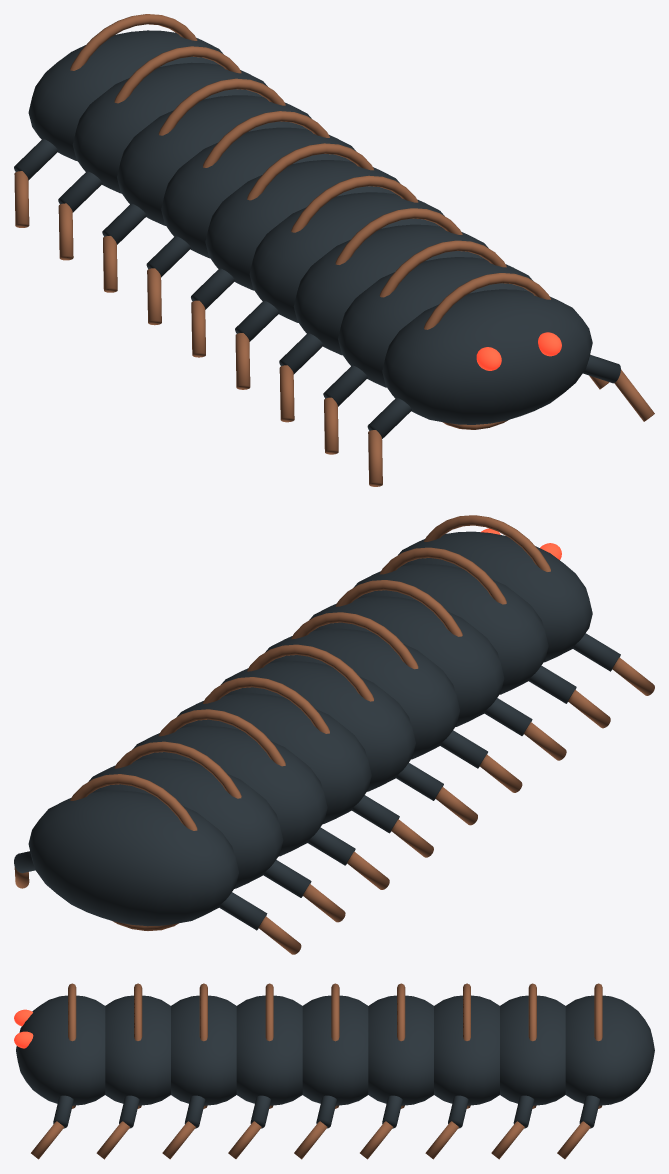
Rendered from worm.glb.
The picture shows the model from 3 angles, top to bottom: view 1: azimuth 30°, elevation 25°; view 2: azimuth 150°, elevation 25°; view 3: azimuth 270°, elevation 25°; orthographic projection. The views are drawn at different scales.
Parts seen in each view (by area): view 1: segment0_shell.001, segment8_shell.001, segment1_shell.001, segment6_shell.001, segment7_shell.001, segment2_shell.001, segment3_shell.001, segment5_shell.001, segment4_shell.001, segment0_copper.001, segment1_copper.001, segment4_copper.001 (+7 smaller); view 2: segment8_shell.001, segment4_shell.001, segment0_shell.001, segment2_shell.001, segment3_shell.001, segment5_shell.001, segment6_shell.001, segment1_shell.001, segment7_shell.001, segment8_copper.001, segment7_copper.001, segment1_copper.001 (+6 smaller); view 3: segment8_shell.001, segment0_shell.001, segment4_shell.001, segment3_shell.001, segment1_shell.001, segment7_shell.001, segment6_shell.001, segment2_shell.001, segment5_shell.001, segment3_copper.001, segment2_copper.001, segment7_copper.001 (+7 smaller).
Part boxes in pixels (x1,y1,x2,y2): segment0_shell.001: [367, 289, 620, 438]; segment8_shell.001: [14, 30, 223, 180]; segment1_shell.001: [323, 257, 532, 406]; segment6_shell.001: [102, 95, 311, 244]; segment7_shell.001: [58, 62, 267, 212]; segment2_shell.001: [279, 224, 488, 374]; segment3_shell.001: [235, 192, 444, 341]; segment5_shell.001: [146, 127, 356, 277]; segment4_shell.001: [191, 160, 400, 309]; segment0_copper.001: [368, 273, 654, 486]; segment1_copper.001: [324, 240, 609, 454]; segment4_copper.001: [191, 143, 373, 357]; segment8_shell.001: [14, 790, 267, 930]; segment4_shell.001: [221, 661, 443, 800]; segment0_shell.001: [398, 531, 620, 671]; segment2_shell.001: [309, 596, 532, 735]; segment3_shell.001: [265, 628, 487, 768]; segment5_shell.001: [177, 693, 399, 833]; segment6_shell.001: [132, 725, 355, 865]; segment1_shell.001: [353, 564, 576, 703]; segment7_shell.001: [88, 758, 311, 897]; segment8_copper.001: [14, 774, 301, 954]; segment7_copper.001: [114, 741, 345, 922]; segment1_copper.001: [379, 547, 610, 728]; segment8_shell.001: [565, 995, 654, 1128]; segment0_shell.001: [16, 995, 105, 1128]; segment4_shell.001: [302, 995, 368, 1128]; segment3_shell.001: [236, 995, 302, 1128]; segment1_shell.001: [105, 995, 170, 1128]; segment7_shell.001: [500, 995, 565, 1128]; segment6_shell.001: [434, 995, 499, 1128]; segment2_shell.001: [171, 995, 236, 1128]; segment5_shell.001: [368, 995, 433, 1128]; segment3_copper.001: [228, 983, 273, 1158]; segment2_copper.001: [162, 983, 207, 1159]; segment7_copper.001: [491, 983, 536, 1159].
Size of the model in its own units: 0.5207 by 0.2836 by 1.36.
